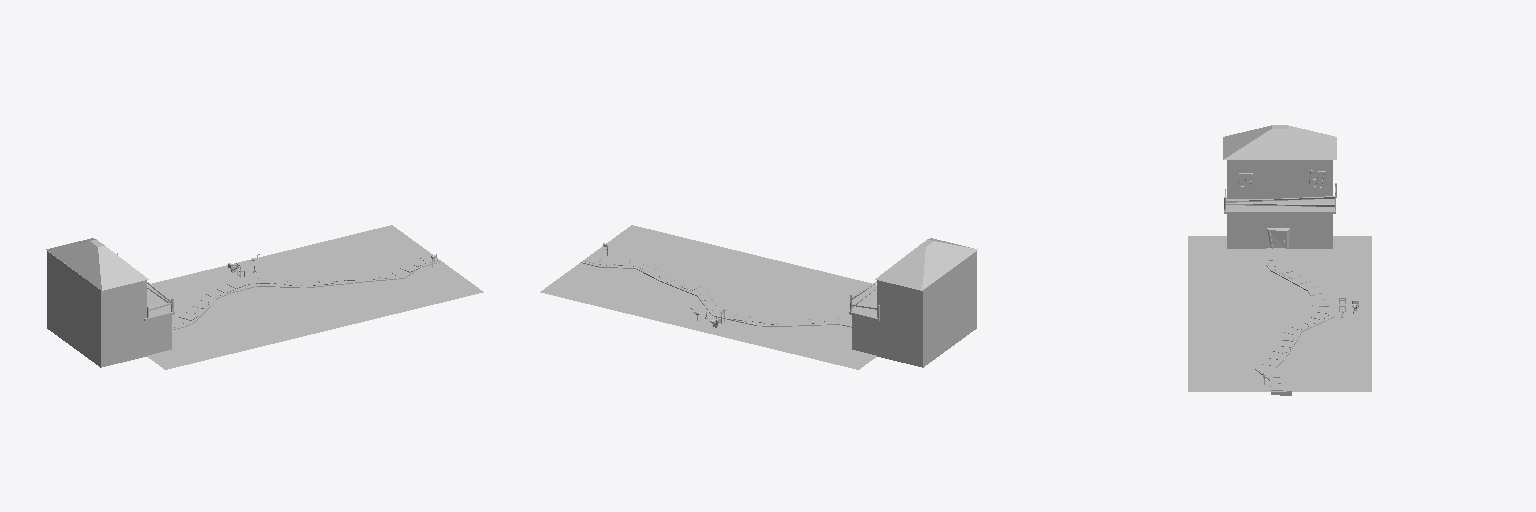
File: pathbase.obj
3 renders of one model, left to right at view 1: azimuth 30°, elevation 25°; view 2: azimuth 150°, elevation 25°; view 3: azimuth 270°, elevation 25°, orthographic.
Parts seen in each view (by area): view 1: Plane_Plane.001, house_Cube.004, path_Cube.003, pathBase_Plane.002; view 2: Plane_Plane.001, house_Cube.004, path_Cube.003, pathBase_Plane.002; view 3: Plane_Plane.001, house_Cube.004, path_Cube.003, pathBase_Plane.002.
Boxes of the visible parts, x1=… form: Plane_Plane.001: x1=147, y1=225, x2=483, y2=369; house_Cube.004: x1=46, y1=238, x2=174, y2=367; path_Cube.003: x1=172, y1=255, x2=437, y2=327; pathBase_Plane.002: x1=172, y1=254, x2=439, y2=329; Plane_Plane.001: x1=540, y1=225, x2=876, y2=369; house_Cube.004: x1=849, y1=238, x2=977, y2=367; path_Cube.003: x1=585, y1=256, x2=851, y2=324; pathBase_Plane.002: x1=581, y1=255, x2=851, y2=327; Plane_Plane.001: x1=1188, y1=236, x2=1371, y2=391; house_Cube.004: x1=1223, y1=125, x2=1336, y2=248; path_Cube.003: x1=1262, y1=249, x2=1332, y2=389; pathBase_Plane.002: x1=1255, y1=248, x2=1334, y2=395.
Bounding box in the file's own units: 15.77 × 4.25 × 6.9.